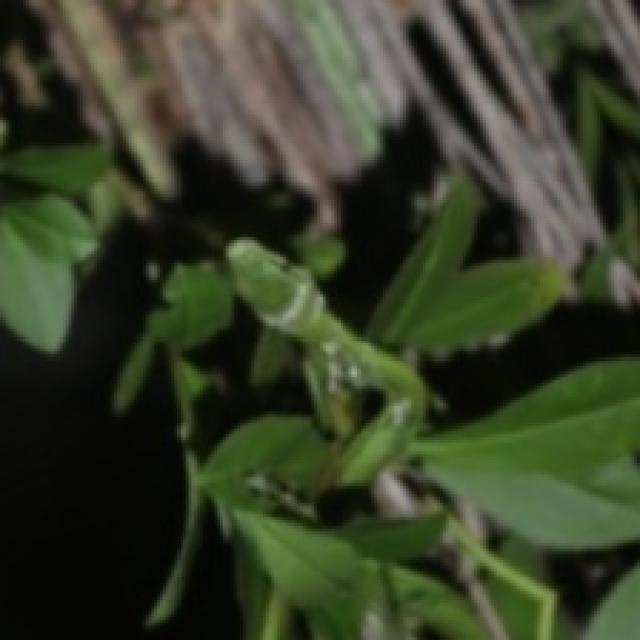red-tailed green ratsnake: (228, 239, 425, 484)
